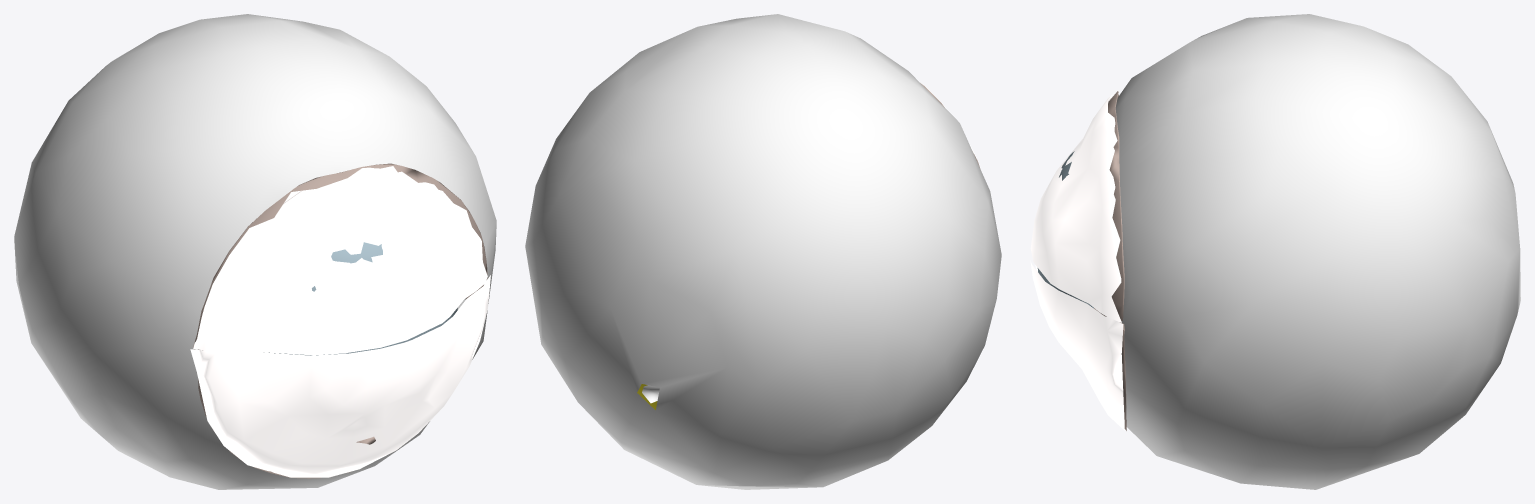
Rendered from eye_r.glb.
3 views of the same model, side by side, from view 1: azimuth 30°, elevation 25°; view 2: azimuth 150°, elevation 25°; view 3: azimuth 270°, elevation 25° (orthographic).
Visible parts, largest first — view 1: VH_M_sclera_R, VH_M_palpebral_conjunctiva_of_upper_eyelid_R, VH_M_palpebral_conjunctiva_of_lower_eyelid_R, VH_M_bulbar_conjunctiva_R, VH_M_cornea_R; view 2: VH_M_sclera_R; view 3: VH_M_sclera_R, VH_M_palpebral_conjunctiva_of_upper_eyelid_R, VH_M_palpebral_conjunctiva_of_lower_eyelid_R, VH_M_bulbar_conjunctiva_R.
Part boxes in pixels (box(x1,y1,x2,y2)): VH_M_sclera_R: box(14, 14, 496, 489); VH_M_palpebral_conjunctiva_of_upper_eyelid_R: box(193, 166, 487, 355); VH_M_palpebral_conjunctiva_of_lower_eyelid_R: box(190, 275, 490, 477); VH_M_bulbar_conjunctiva_R: box(193, 163, 488, 478); VH_M_cornea_R: box(269, 242, 457, 355); VH_M_sclera_R: box(525, 14, 1001, 489); VH_M_sclera_R: box(1093, 14, 1520, 489); VH_M_palpebral_conjunctiva_of_upper_eyelid_R: box(1030, 92, 1121, 322); VH_M_palpebral_conjunctiva_of_lower_eyelid_R: box(1030, 260, 1124, 430); VH_M_bulbar_conjunctiva_R: box(1094, 91, 1126, 430).
Bounding box in the file's own units: 0.0243 × 0.0244 × 0.0252.
